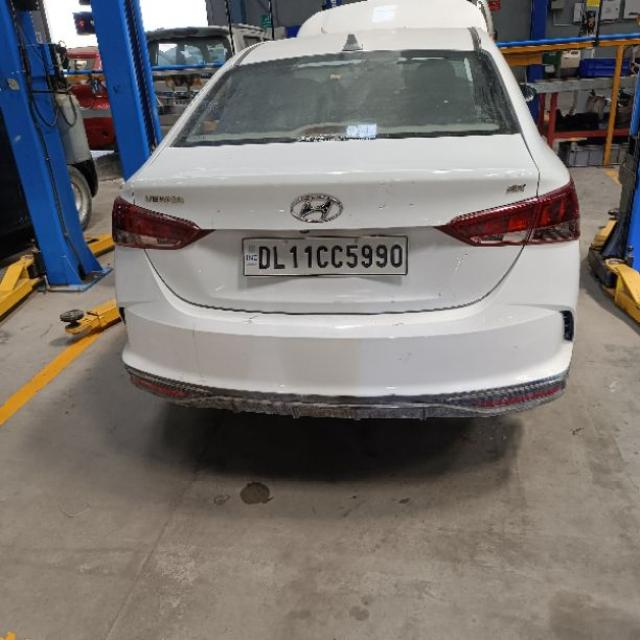license_plate: (240, 233, 408, 276)
